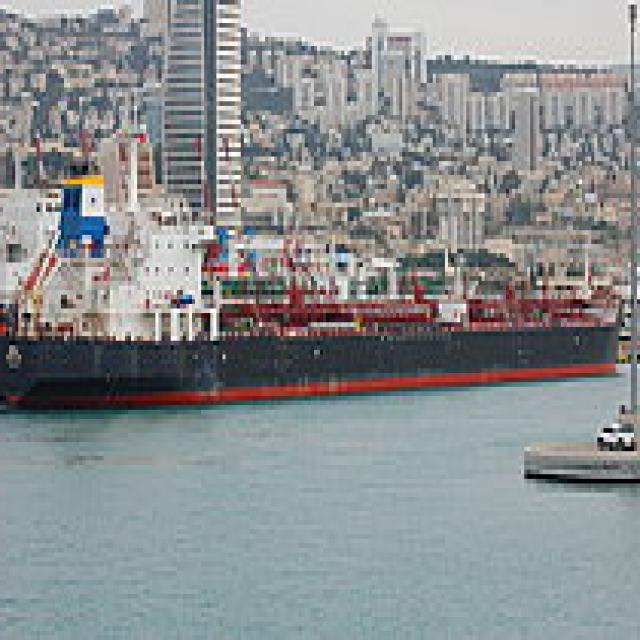Tanker: (6, 129, 625, 400)
